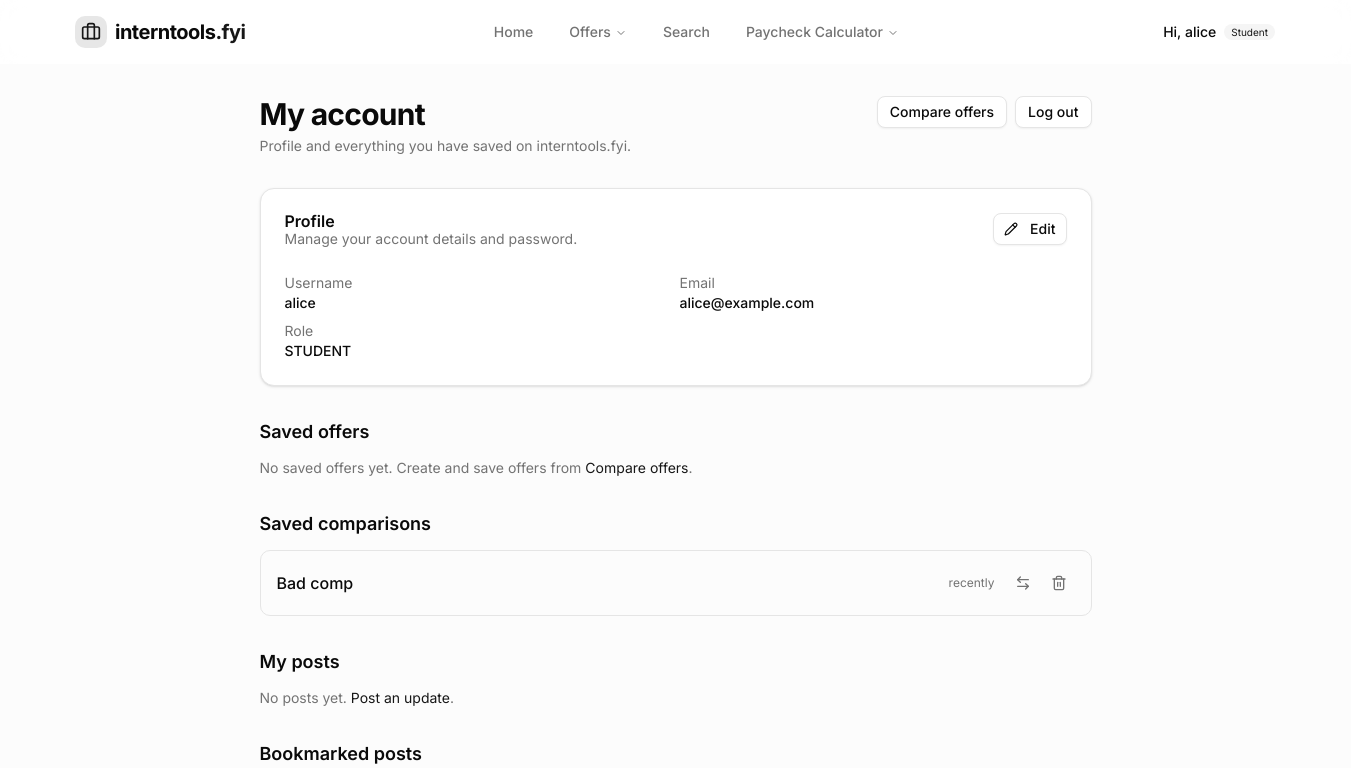
/me page › shows an error when deleting a comparison fails
The image size is (1366, 768).
Expected: the text "Bad comp" is shown, [276,573,353,593]
Click the button named "Delete comparison".
click(1058, 583)  # box [1042,567,1074,599]
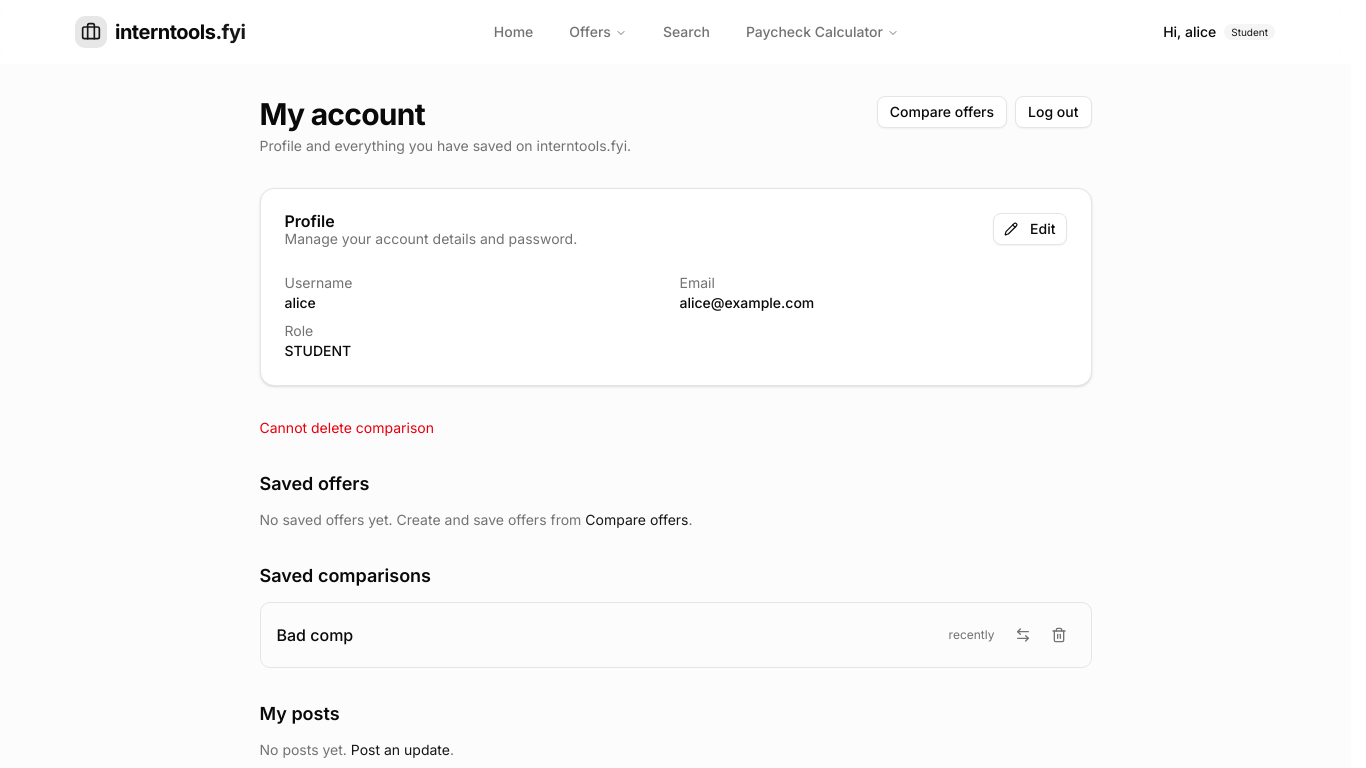
Now the message reads "Cannot delete comparison", box [260,419,434,436]
